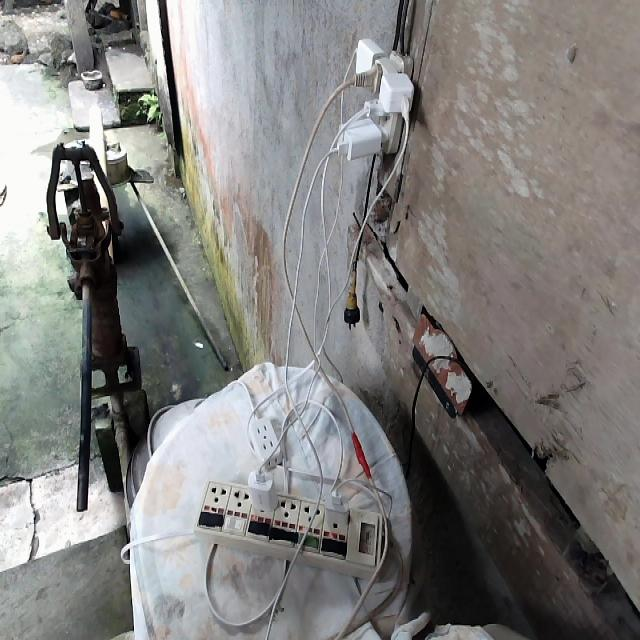-: (324, 33, 417, 160)
